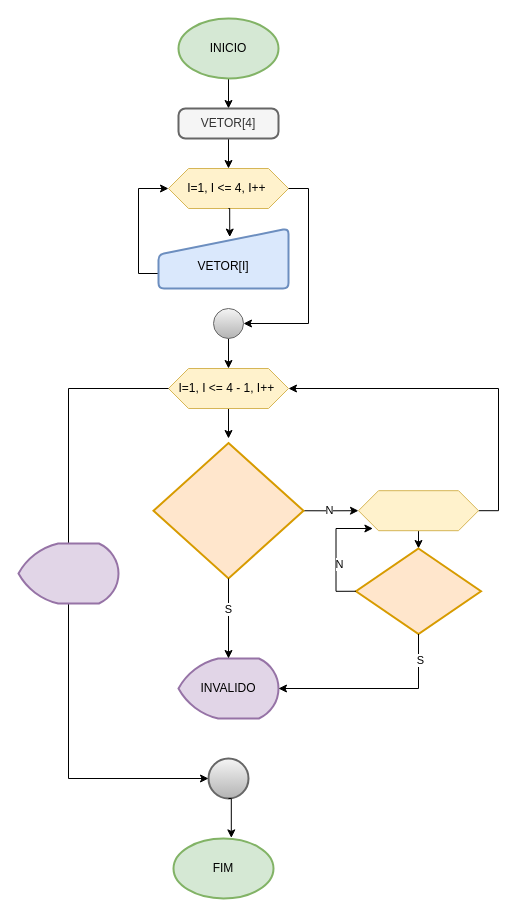
Some shapes in this 524 by 916 pixel diagram are drawn without their labels. Here are the shapes that lost their labels. From the top down, the box of each, then its label:
(152, 442, 304, 579): VETOR[I] = VETOR[I + 1] - 1
(358, 490, 478, 531): J=2, J <= 4, J++
(17, 542, 119, 604): VALIDO
(354, 547, 482, 634): VETOR[I] = VETOR[J]
